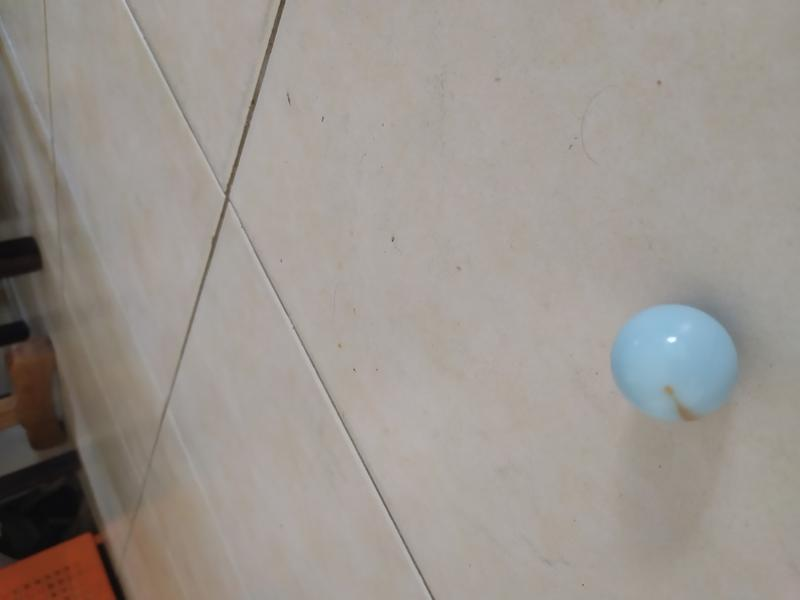Warning: (606, 298, 744, 429)
